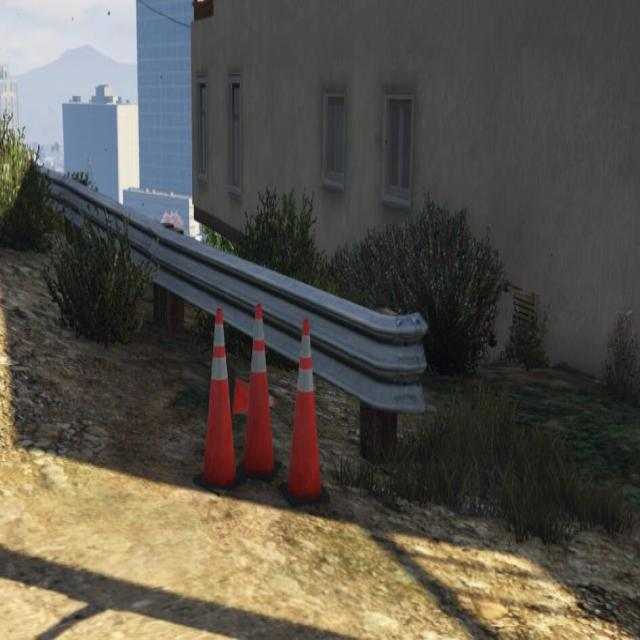reflective_cone: (191, 308, 245, 498), (279, 314, 331, 506), (236, 302, 281, 480)
